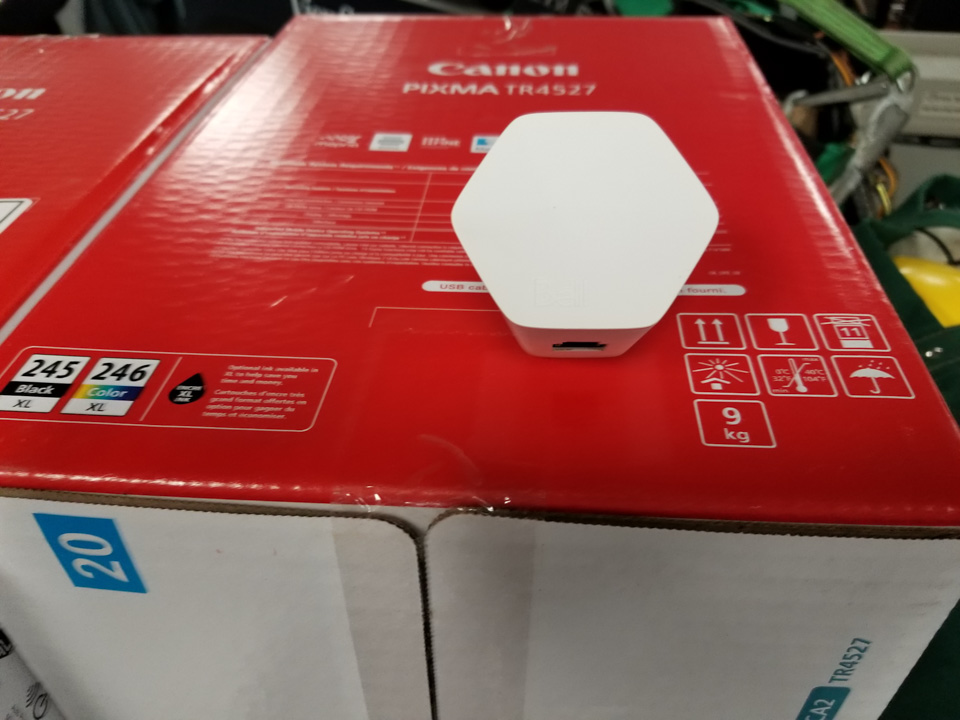pod: (446, 106, 727, 369)
